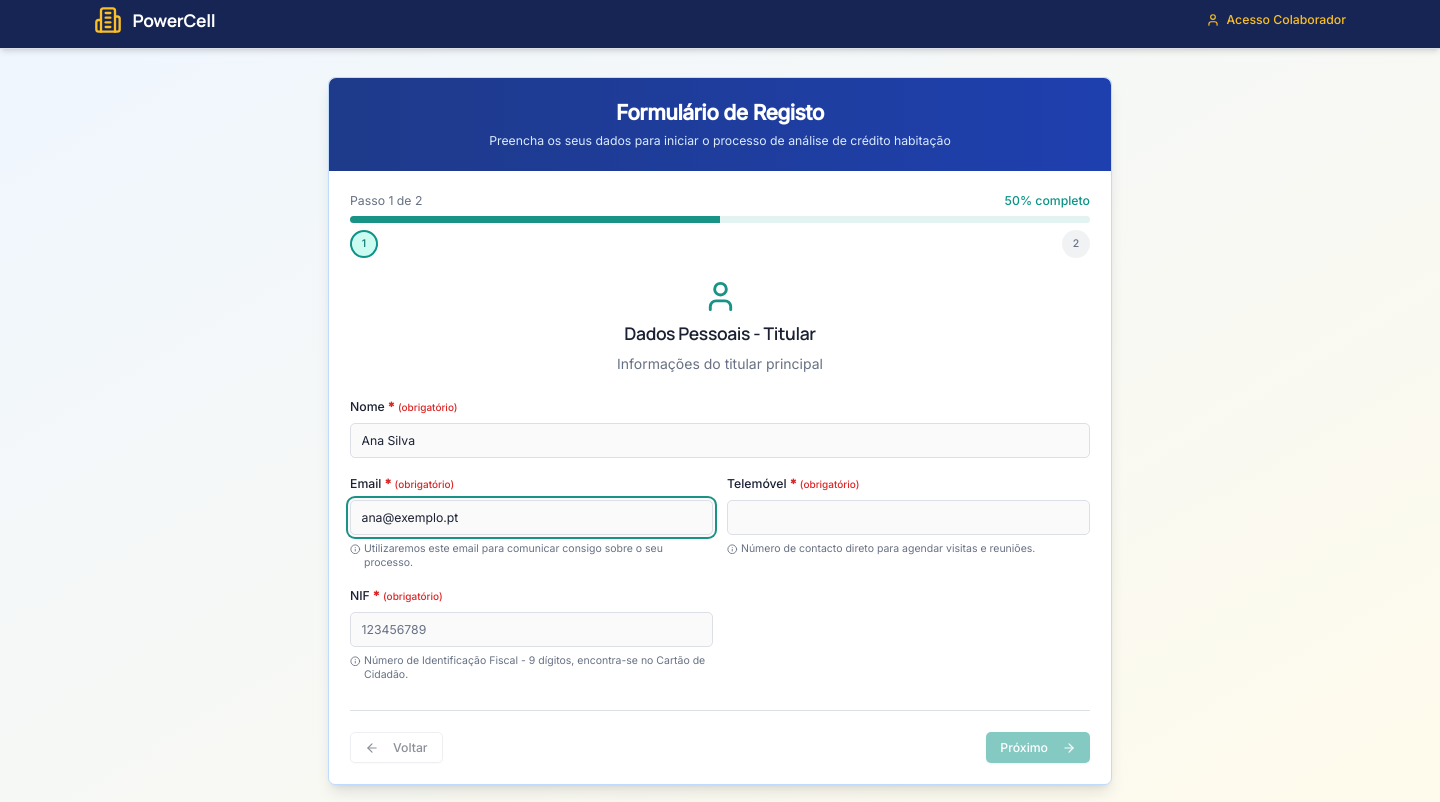
Test: PublicClientForm — registo duplicado (D-38) › sem duplicado não há aviso (contraprova)
Earlier steps of the test are not shown.
Type "912345678" into the field labelled "Telemóvel *(obrigatório)" at (908, 517), box [727,500,1090,535]
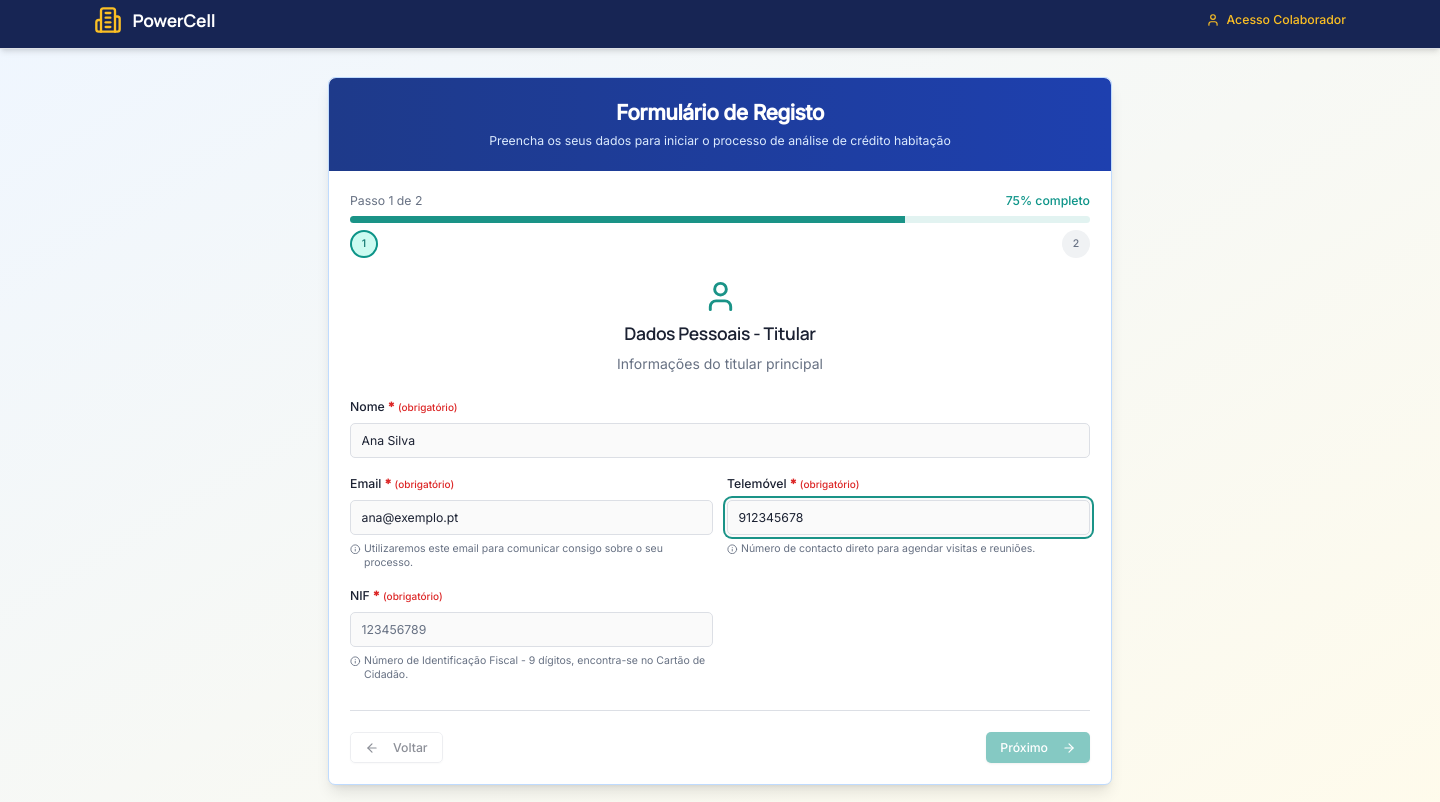
Type "200000004" into the field labelled "NIF *(obrigatório)" at (532, 629), box [350,612,713,647]
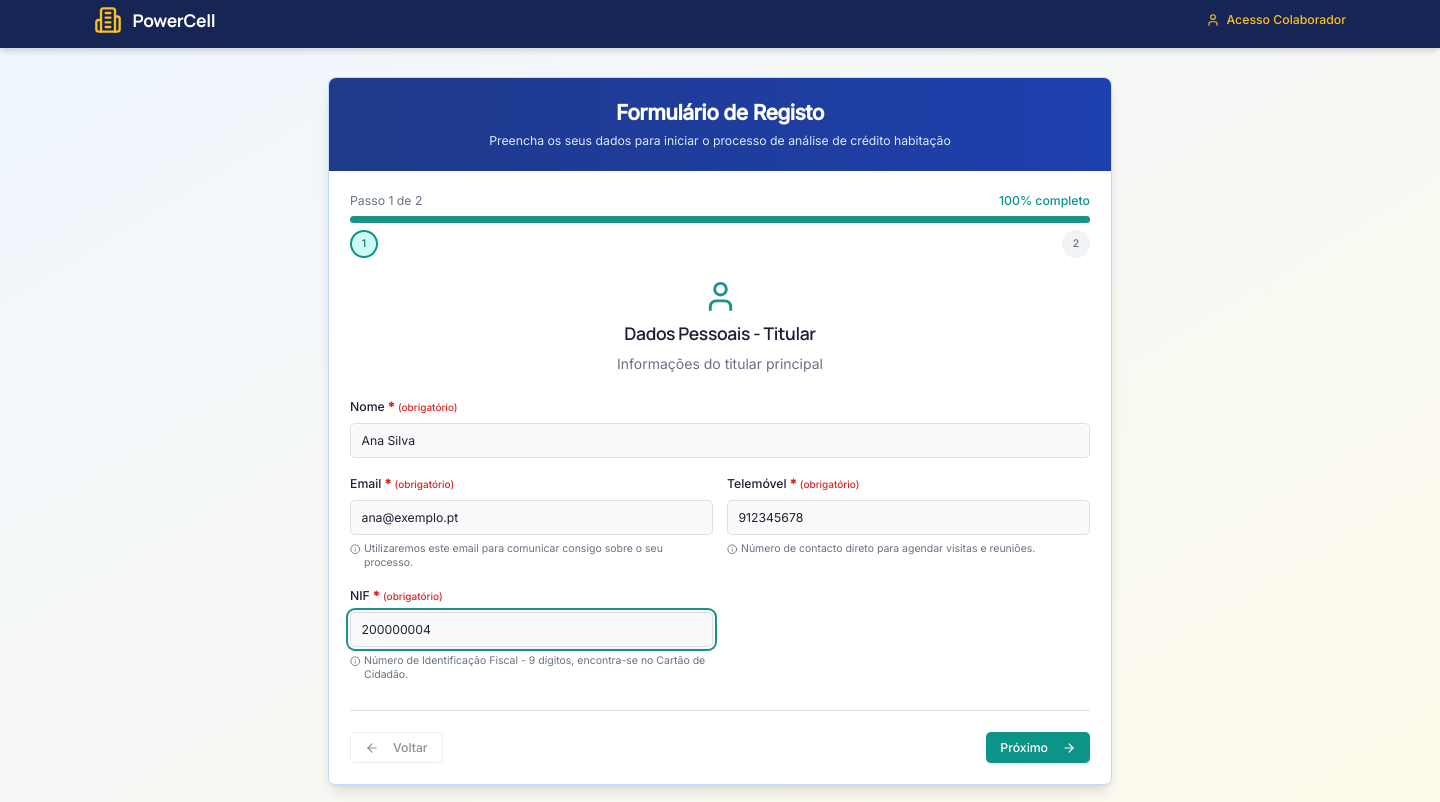
Click the button "Próximo" at (1038, 748), box [986,732,1090,763]
(page scrolled)
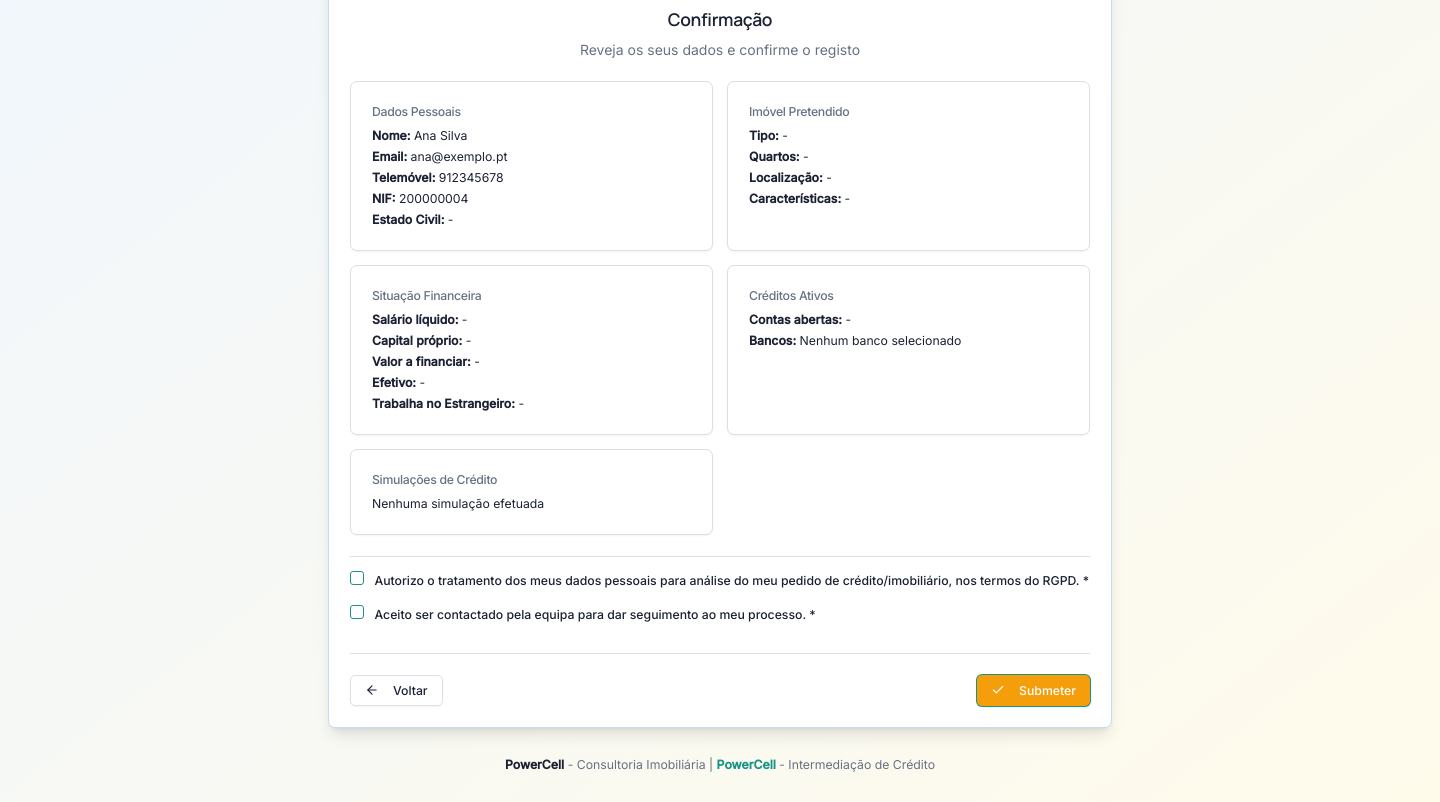
Click the 1st checkbox at (357, 578), box [350,571,364,585]
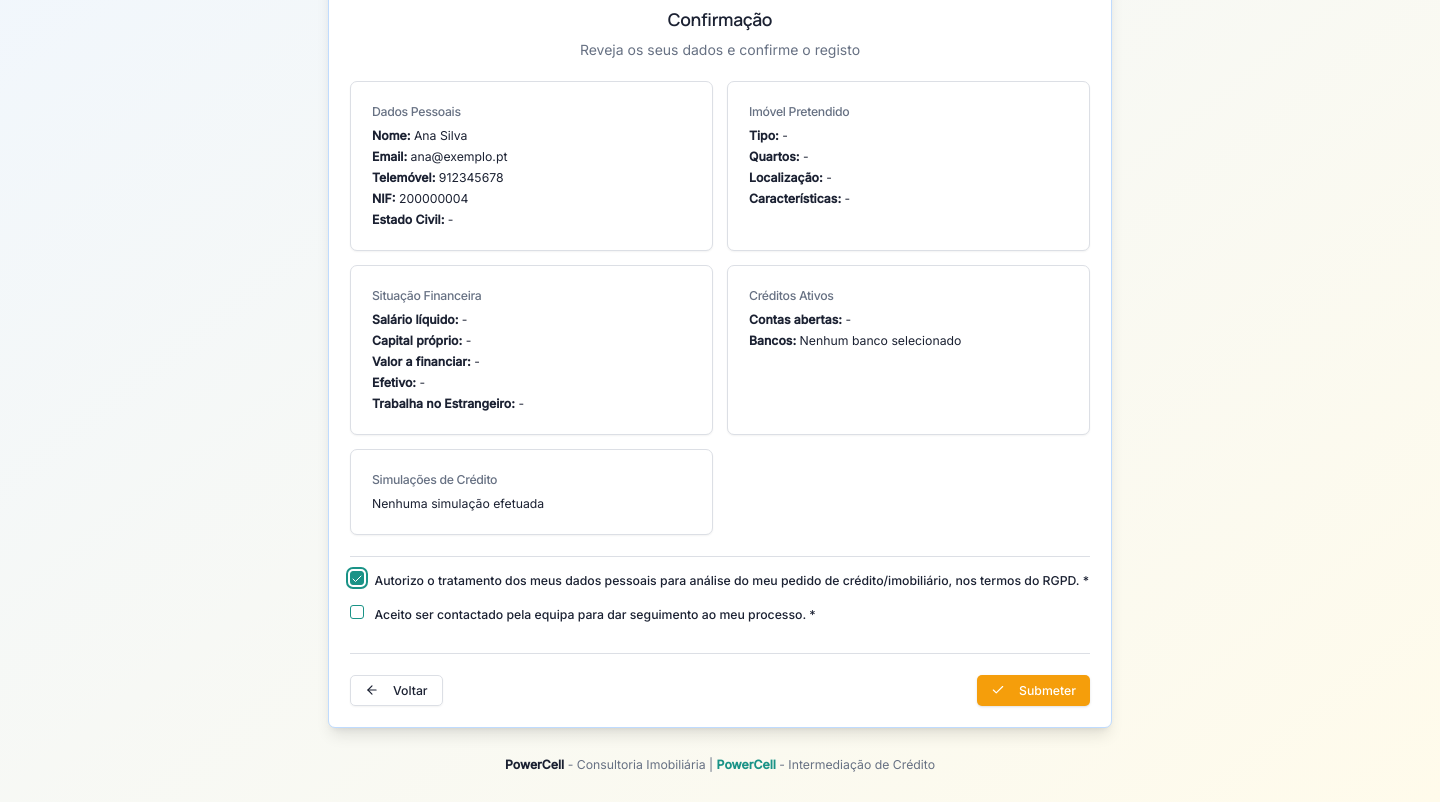
Click the 2nd checkbox at (357, 612), box [350,605,364,619]
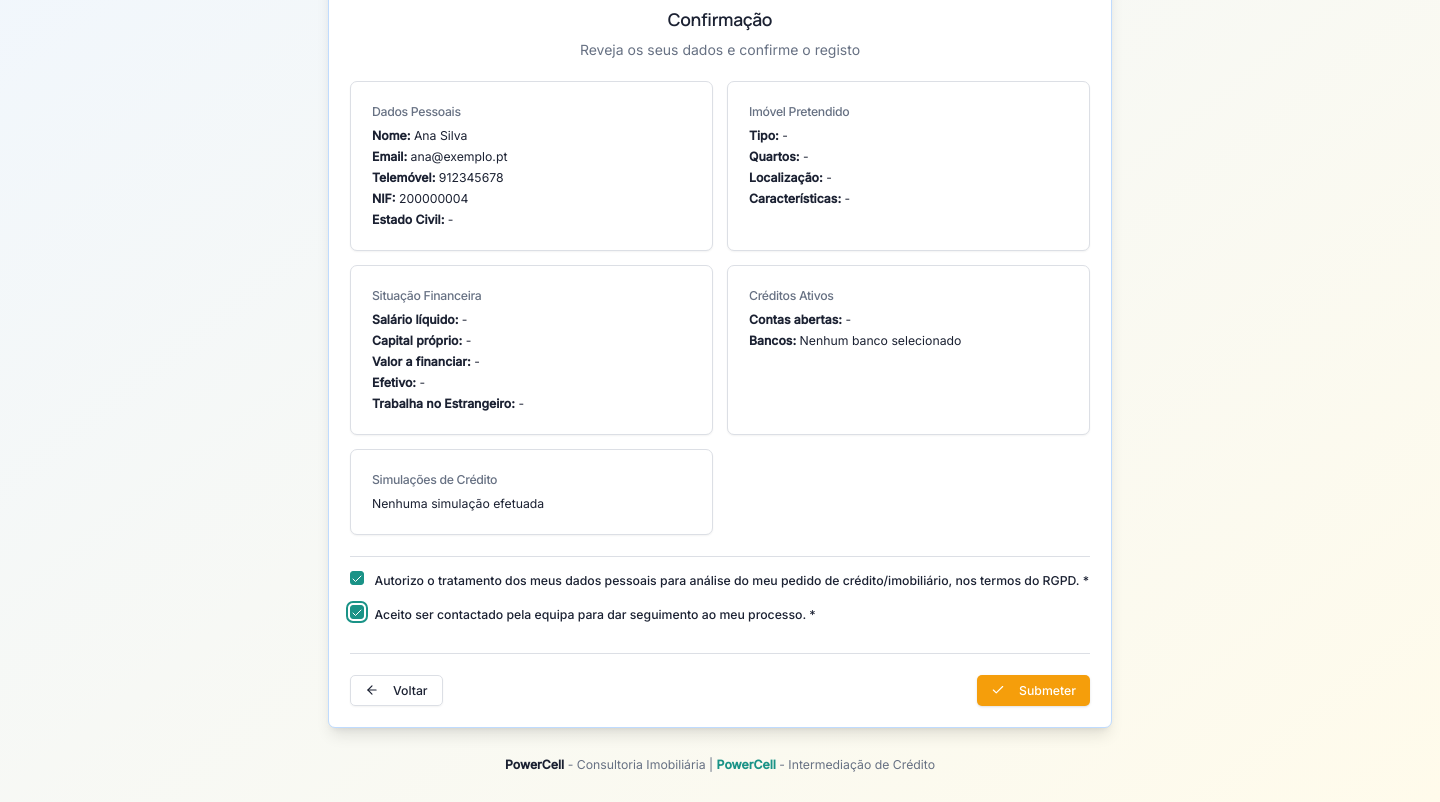
Click the button "Submeter" at (1034, 690), box [977,675,1090,706]
(page scrolled)
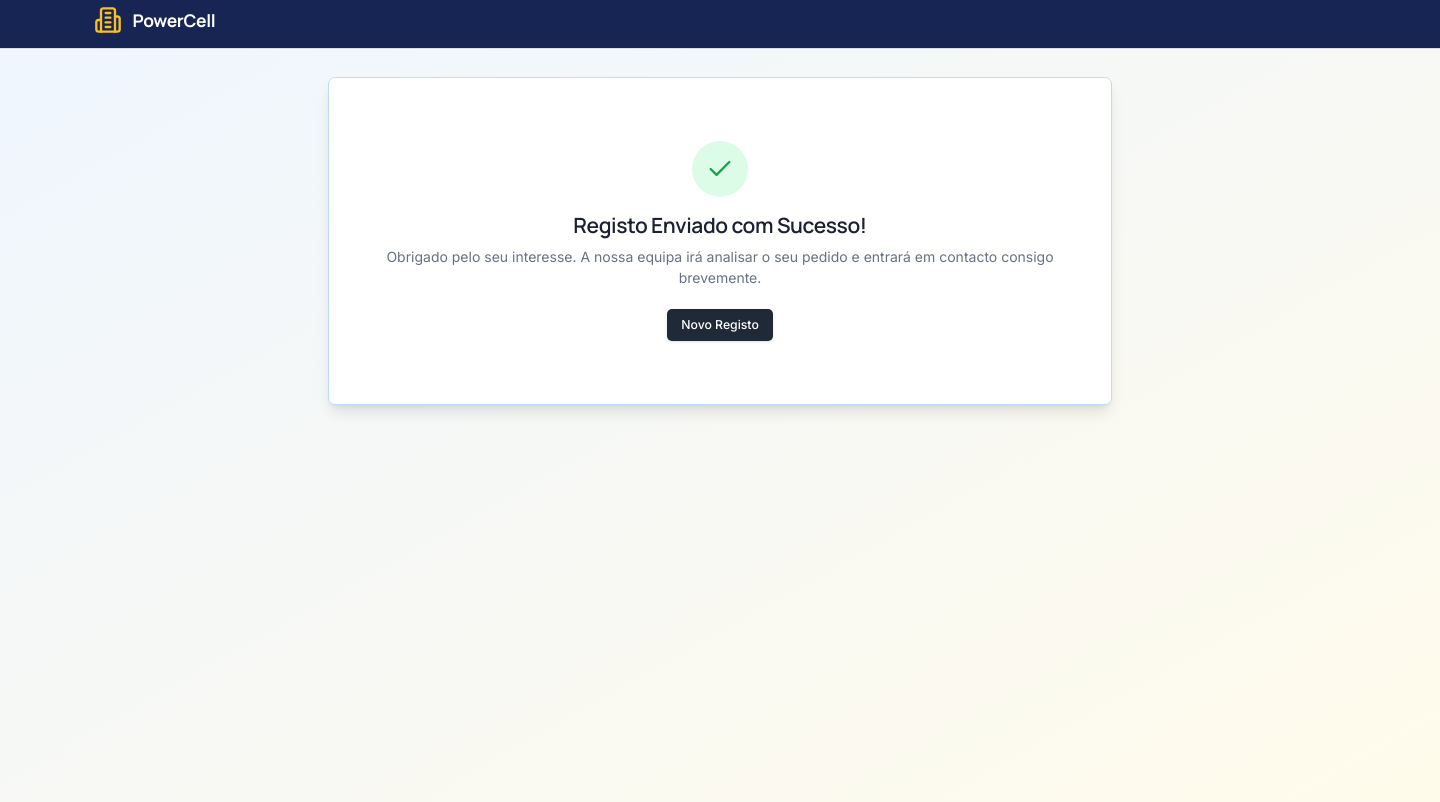
expect the heading "Registo Enviado com Sucesso!" is shown: met, box [573,211,867,239]
